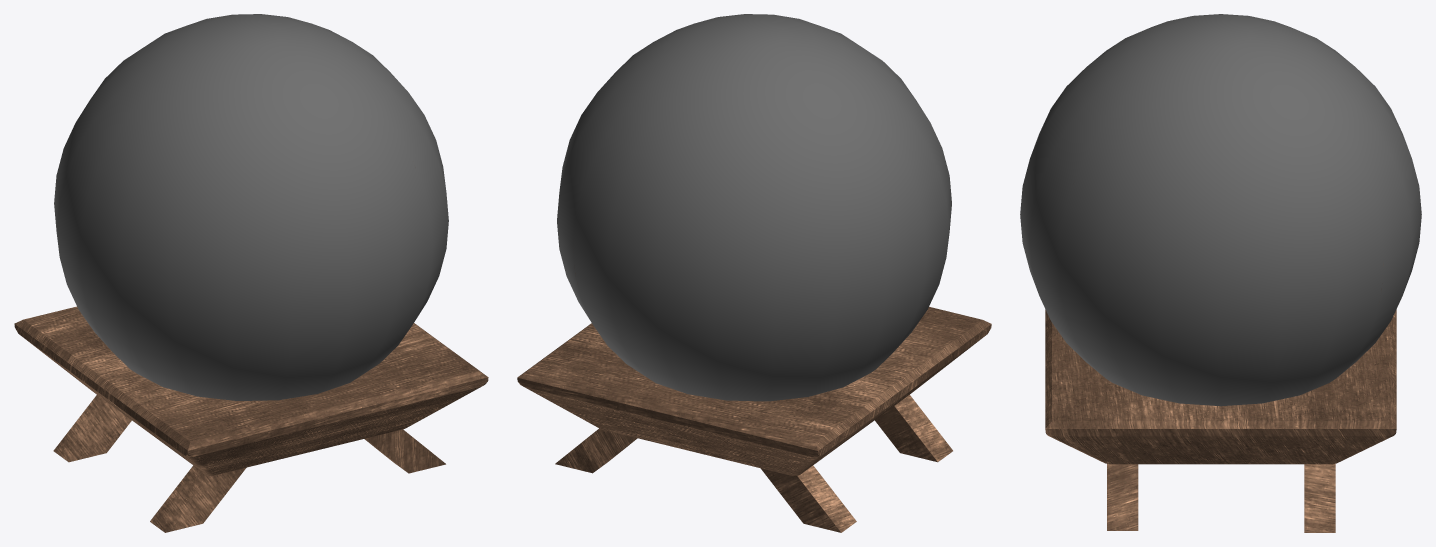
The model's file is web_dev_node.glb.
3 renders of one model, left to right at view 1: azimuth 30°, elevation 25°; view 2: azimuth 150°, elevation 25°; view 3: azimuth 270°, elevation 25°, orthographic.
Parts seen in each view (by area): view 1: Glass_Ball, Stand_Base, pasted__pCube1, pCube1, pasted__pasted__pCube1; view 2: Glass_Ball, Stand_Base, pasted__pCube1 (×2), pCube1; view 3: Glass_Ball, Stand_Base, pasted__pCube1, pasted__pasted__pCube1.
Boxes of the visible parts, bbox=[...] form: Glass_Ball: bbox=[54, 14, 448, 400]; Stand_Base: bbox=[14, 306, 488, 475]; pasted__pCube1: bbox=[150, 465, 246, 532]; pCube1: bbox=[53, 395, 131, 462]; pasted__pasted__pCube1: bbox=[364, 429, 445, 473]; Glass_Ball: bbox=[557, 14, 951, 401]; Stand_Base: bbox=[517, 306, 991, 475]; pasted__pCube1 (×2): bbox=[555, 395, 952, 473]; pCube1: bbox=[761, 465, 856, 532]; Glass_Ball: bbox=[1020, 14, 1421, 406]; Stand_Base: bbox=[1045, 309, 1396, 464]; pasted__pCube1: bbox=[1304, 463, 1335, 532]; pasted__pasted__pCube1: bbox=[1107, 464, 1138, 530].
Size of the model in its own units: 0.02 by 0.0236 by 0.02.
Materials: 2 (1 with a texture image).
